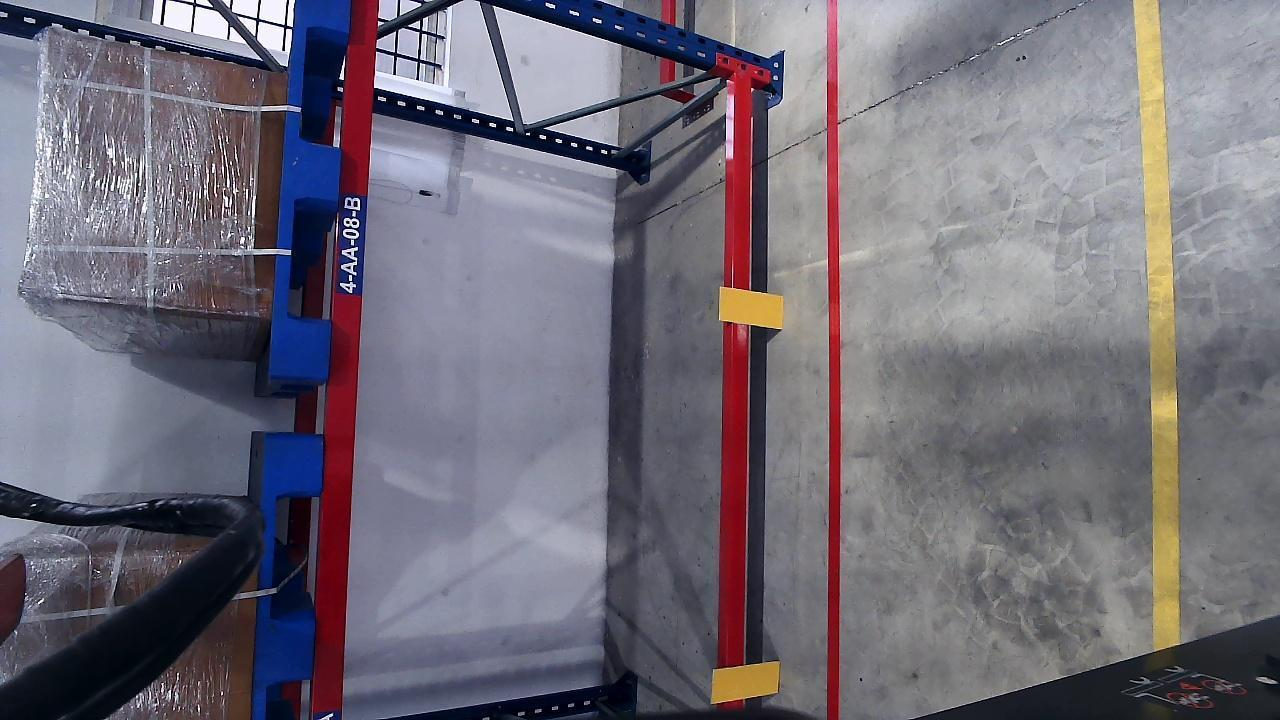red_line: (819, 1, 844, 702)
yellow_line: (1139, 0, 1180, 642)
